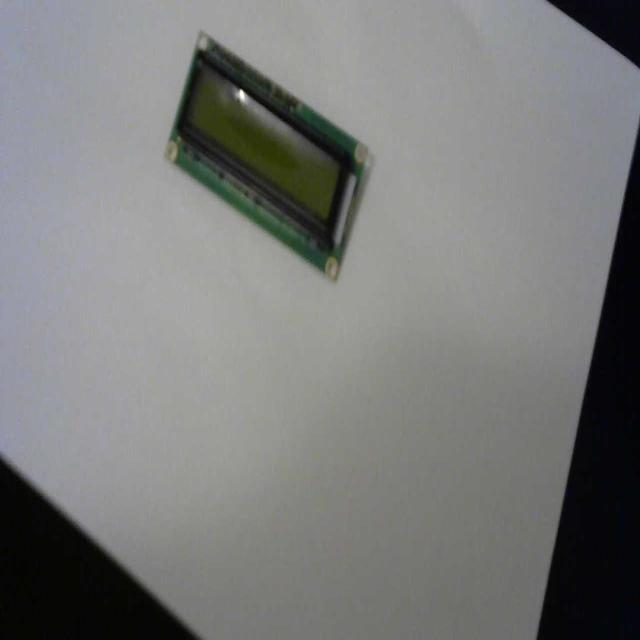lcd: (163, 28, 370, 282)
